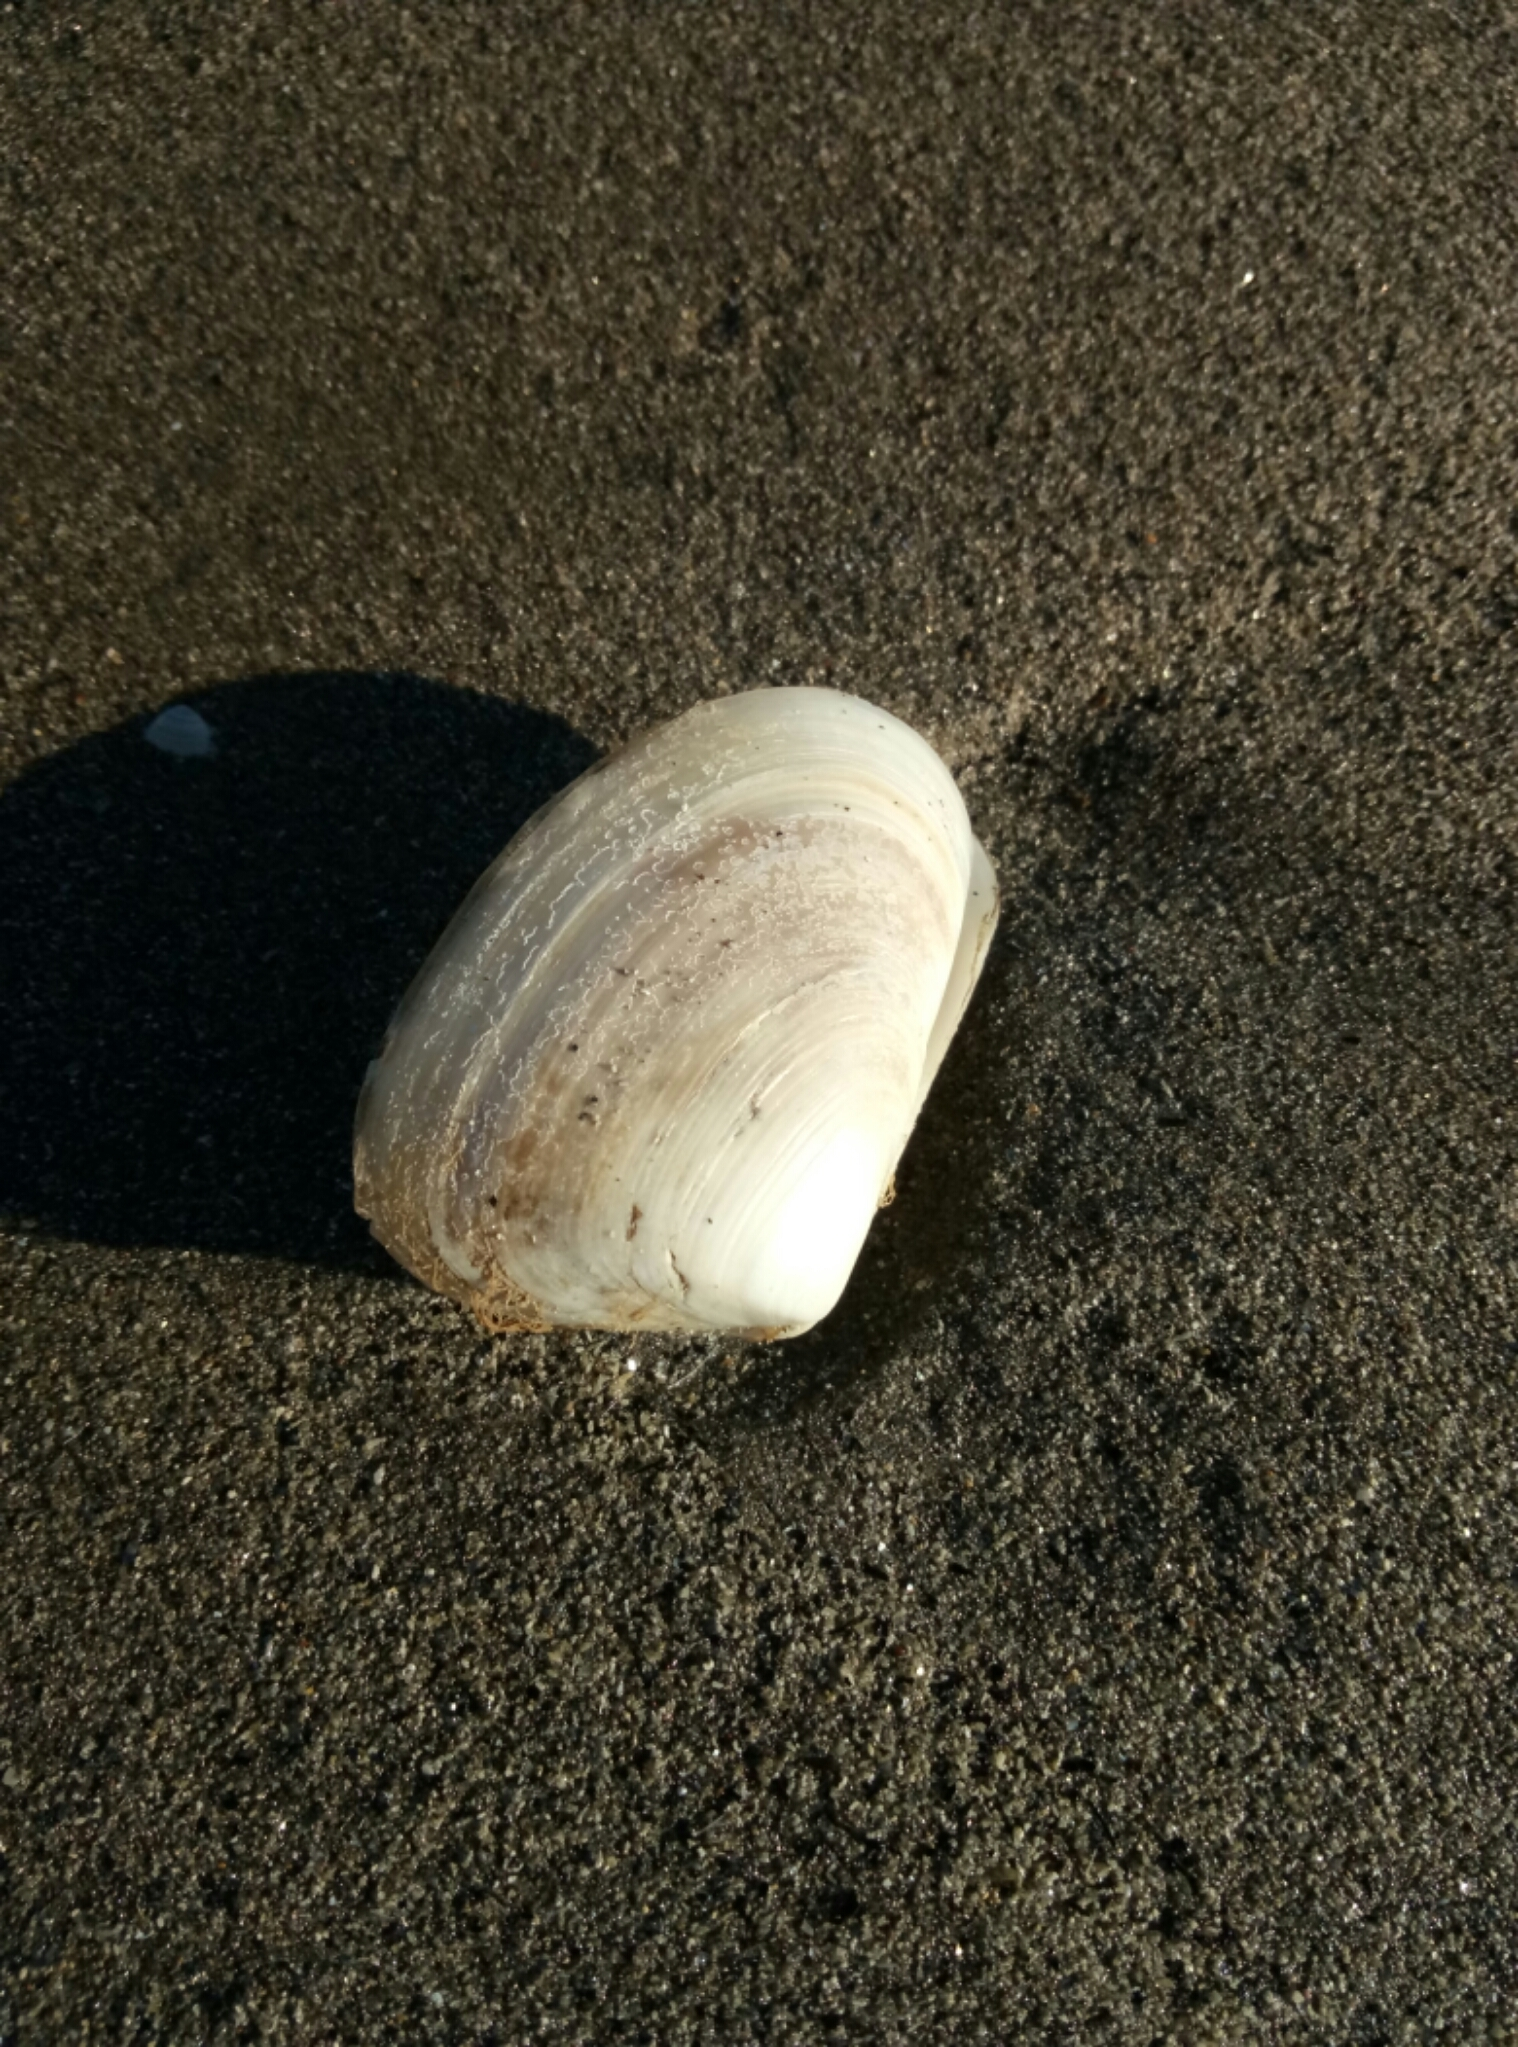tuatua: (301, 674, 981, 1341)
